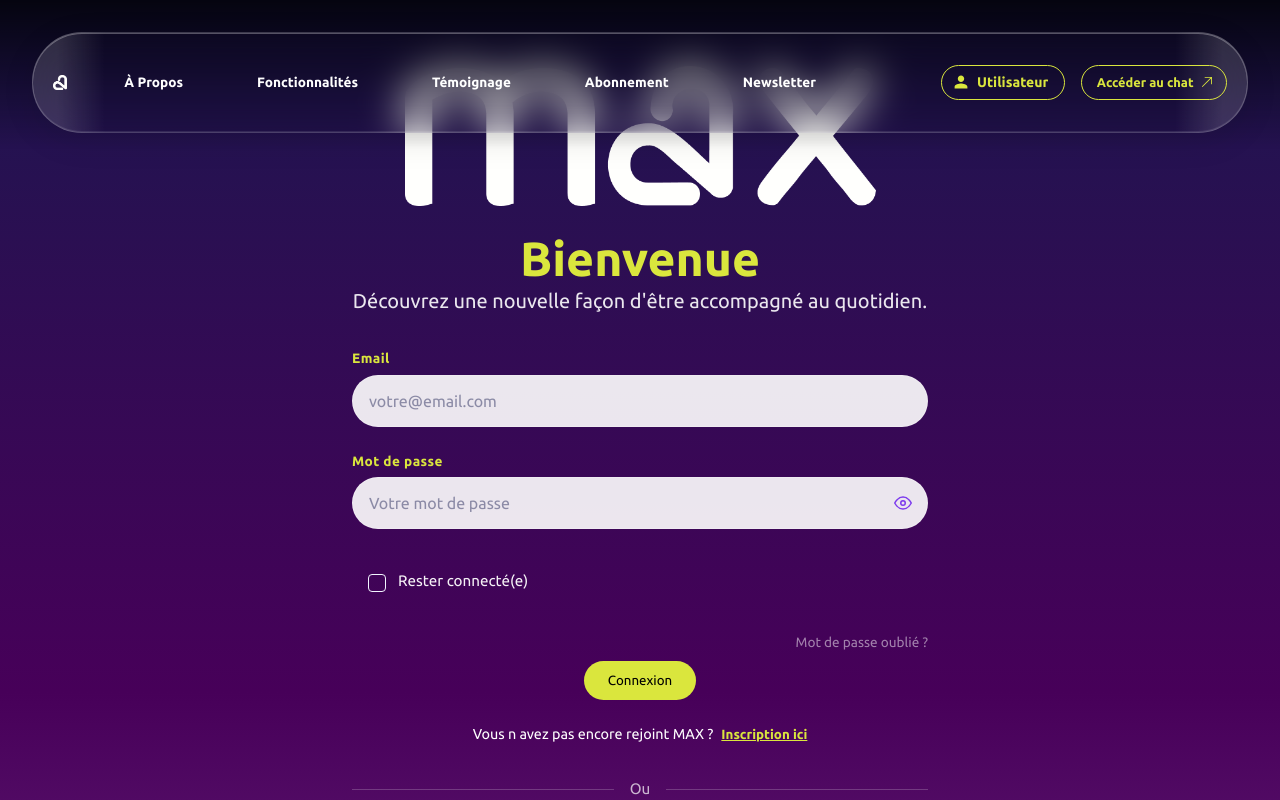
Test: AuthUser Component - Extended Tests › Error Handling › displays API error message on login failure
(page scrolled)
Type "wrong@example.com" into the field with placeholder "votre@email.com".
click(640, 401); type("wrong@example.com")  # box [352,375,928,427]
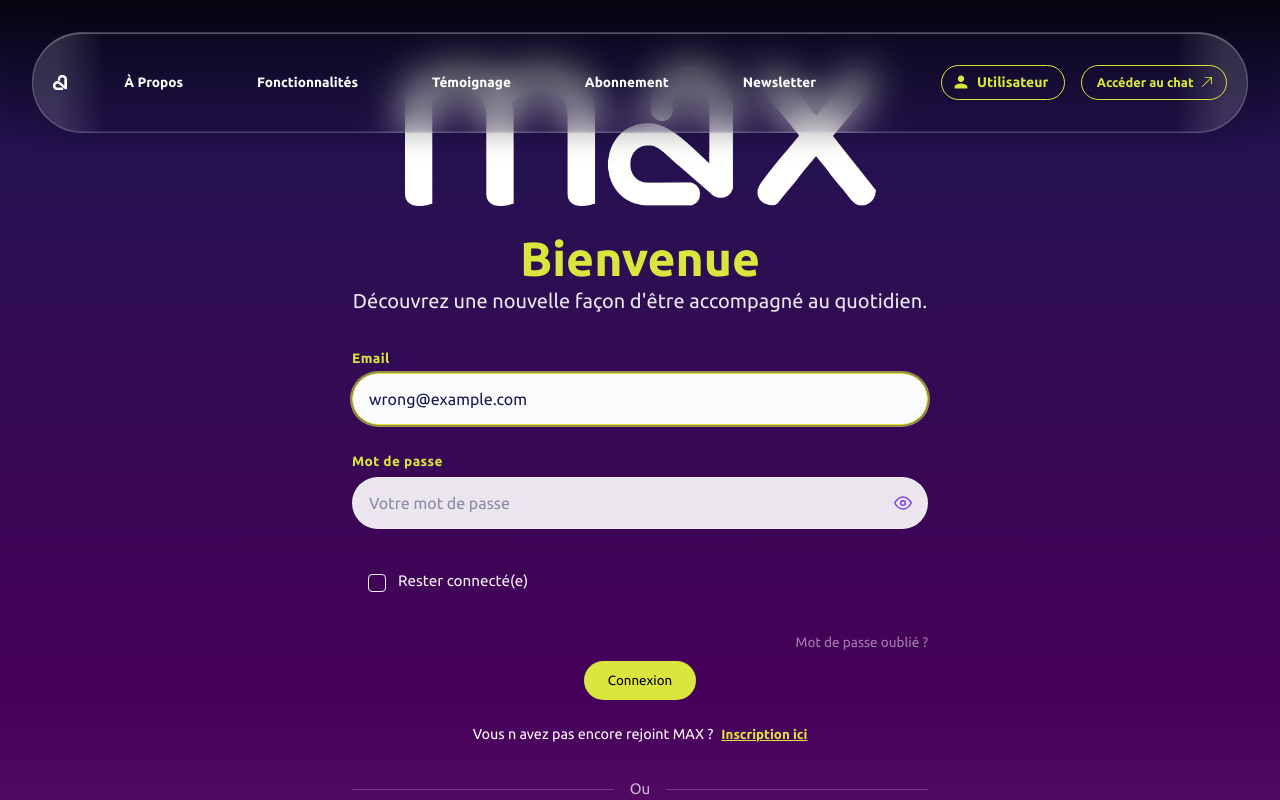
Type "wrongpassword" into the password field with placeholder "Votre mot de passe".
click(640, 503); type("wrongpassword")  # box [352,477,928,529]
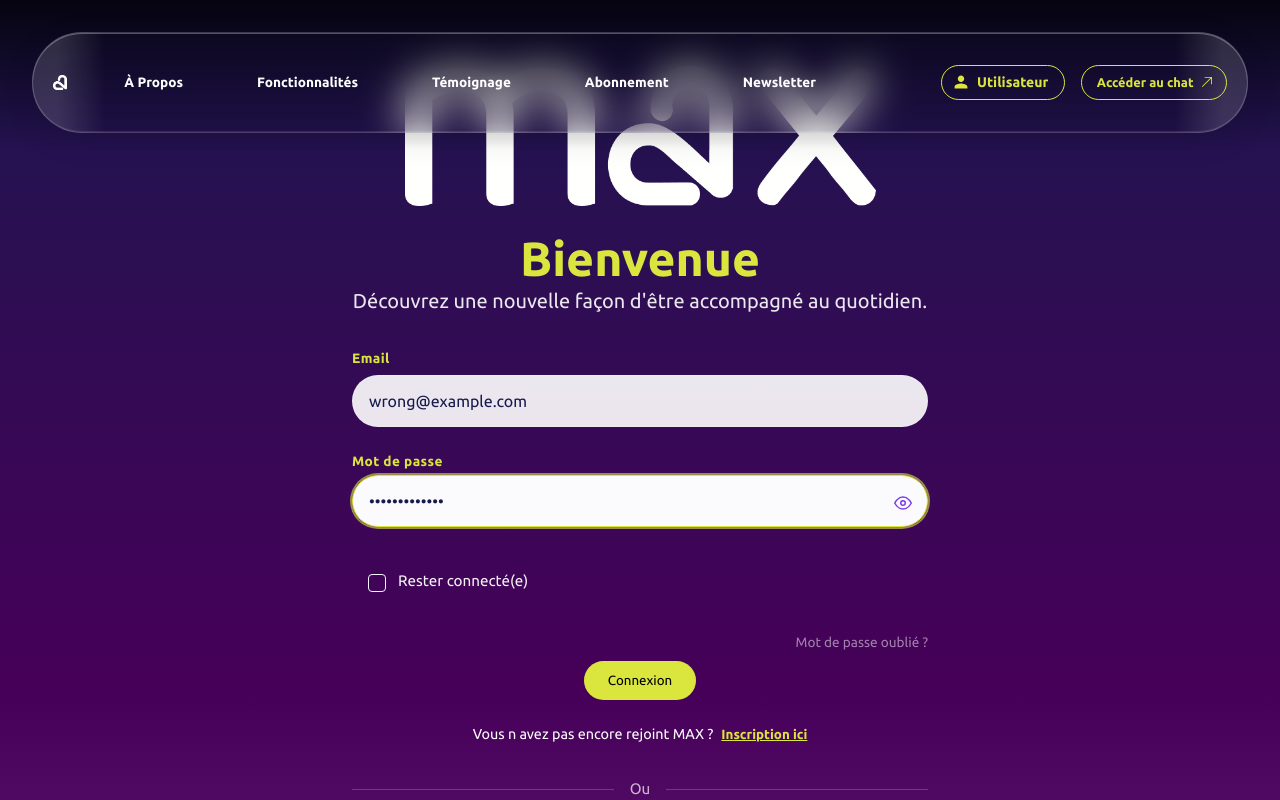
Click the button "Connexion".
click(640, 681)  # box [584,661,696,700]
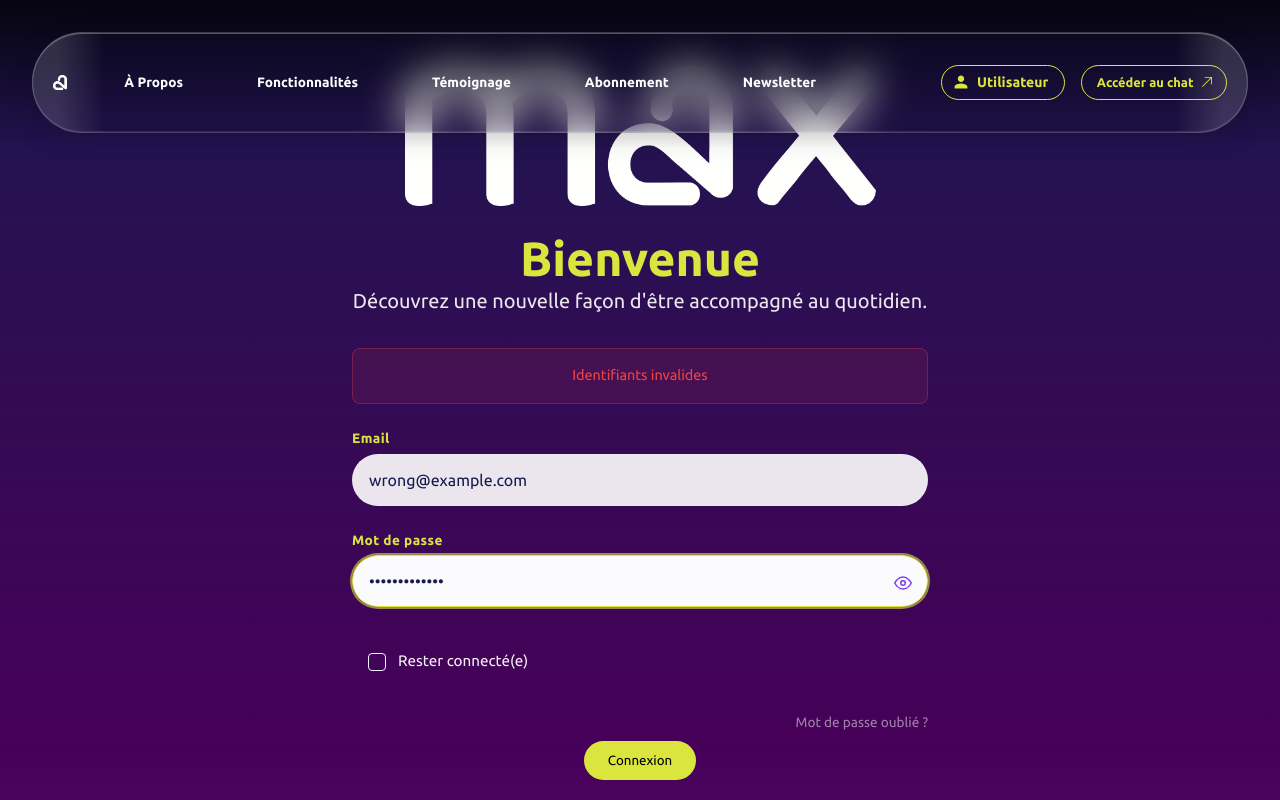
Result: the text "Identifiants invalides" is shown at [352,348,928,404]
